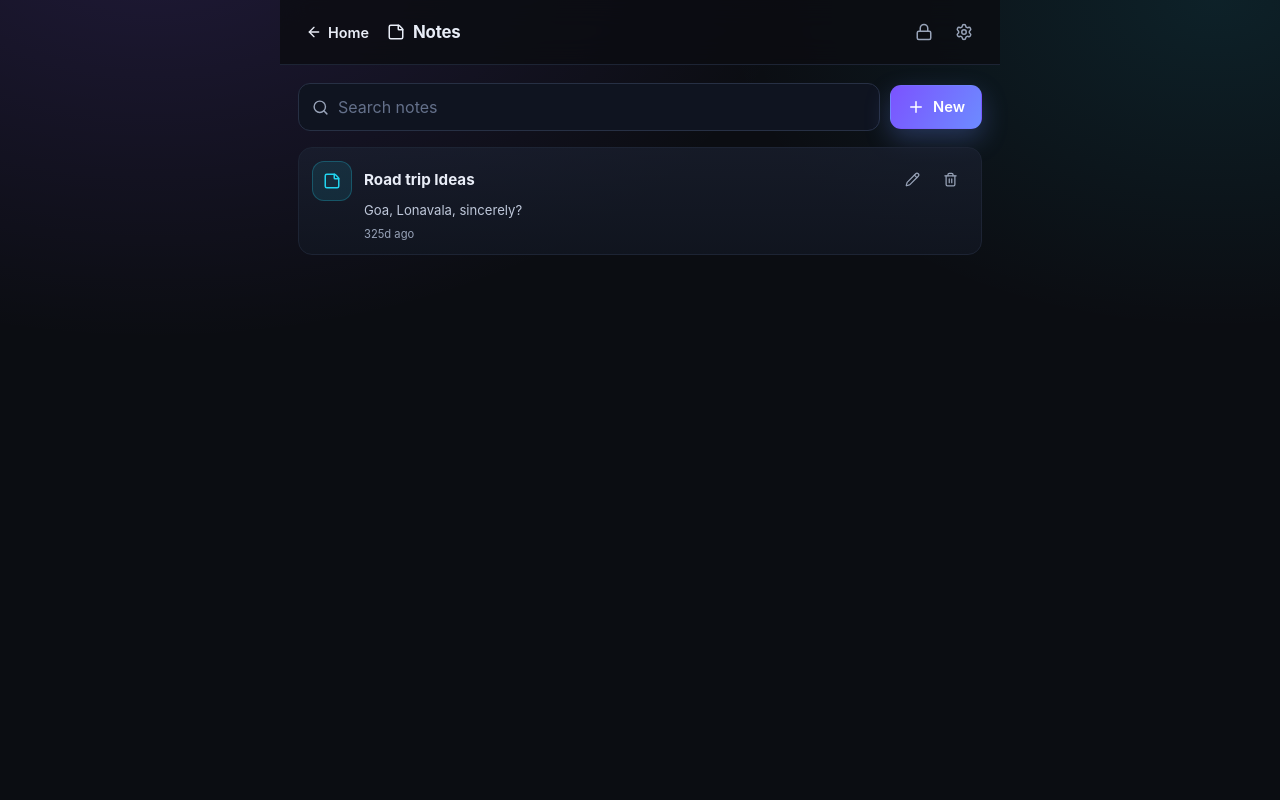
it: NotesScreen › filters notes by search
Type "road" into the search field labelled "Search notes" at (602, 107), box [338,84,866,130]
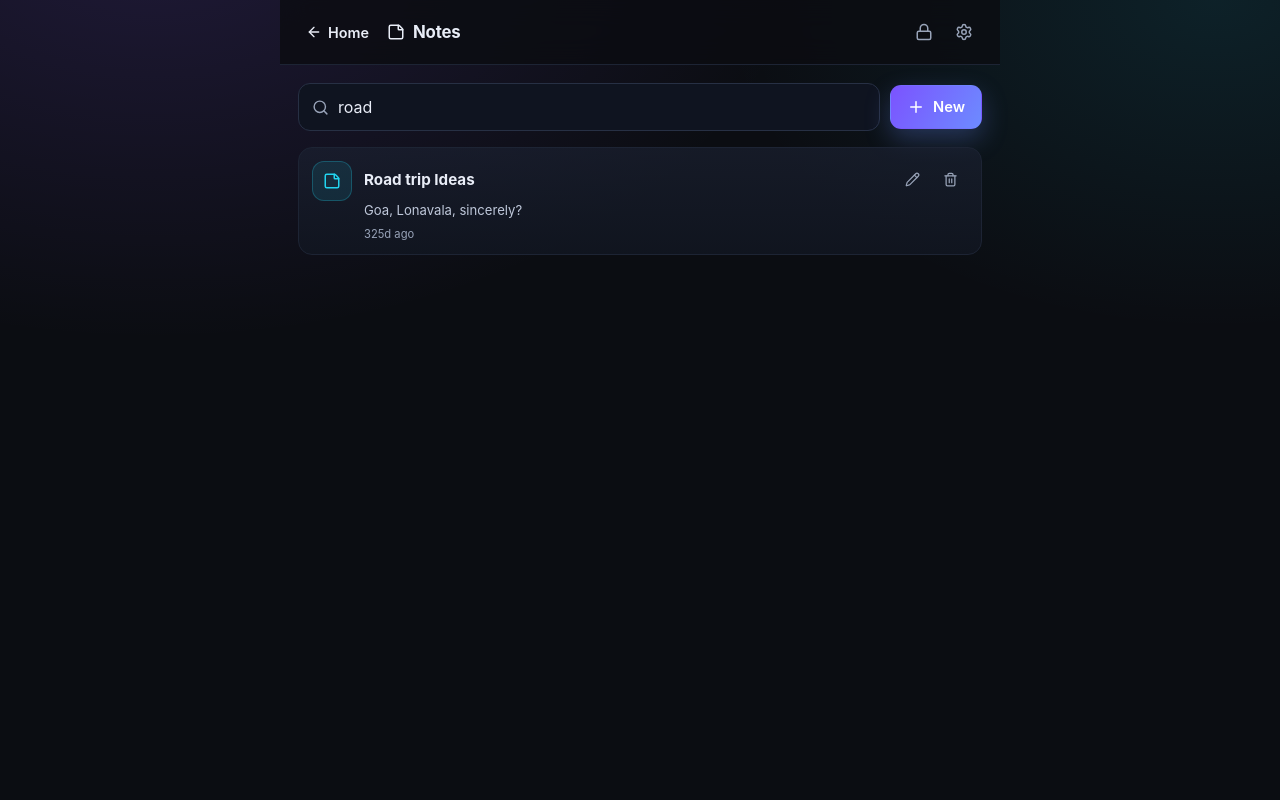
Check: the heading "Road trip Ideas" is shown, box [364,170,475,188]
Replace the text in the search field named "Search notes" with "zzz" at (602, 107), box [338,84,866,130]
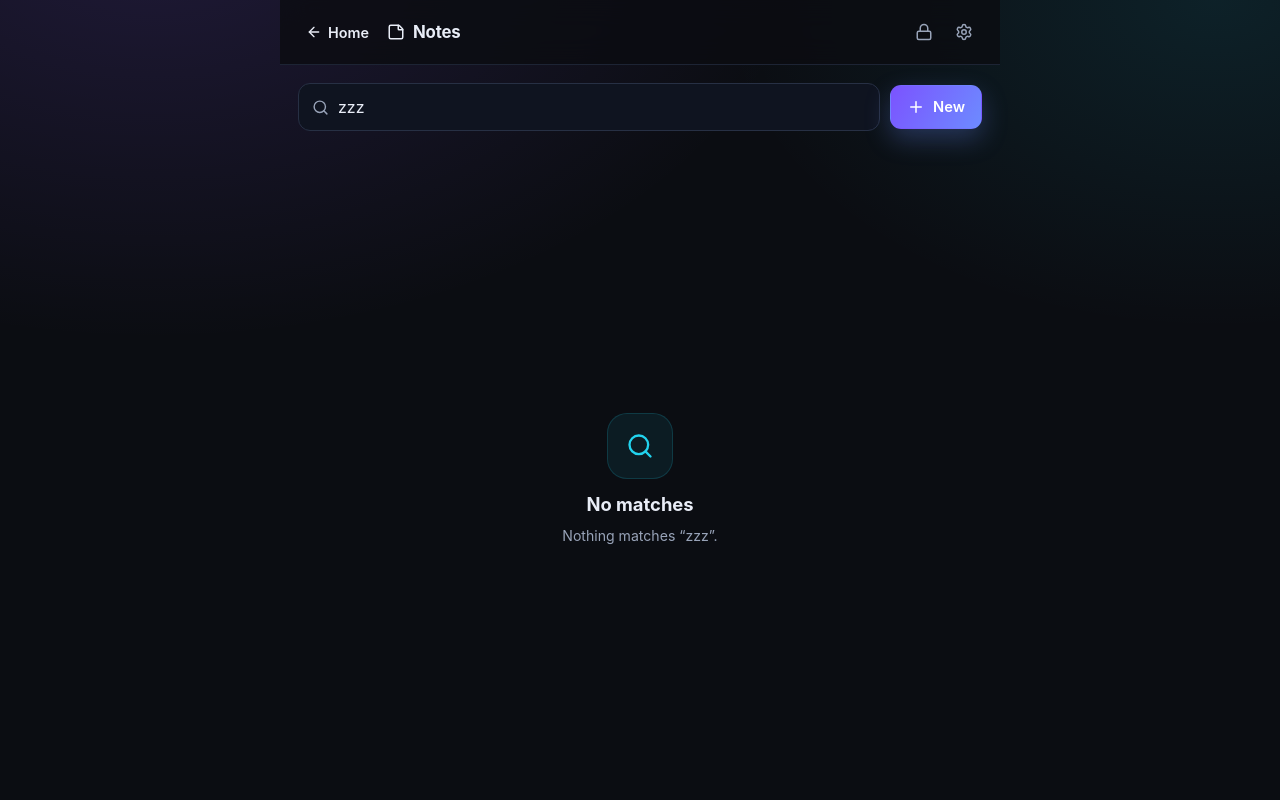
Check: the heading "No matches" is shown, box [586,493,694,515]
